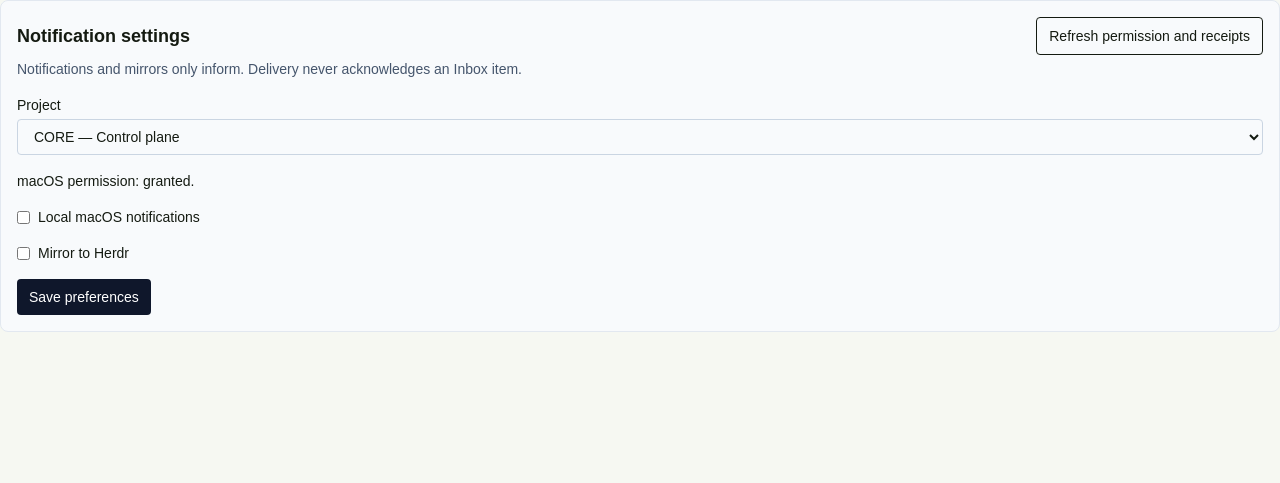
Scenario: notification-settings › saves explicit channel preferences without acknowledging attention
This screenshot has width=1280, height=483.
Click the checkbox with test id "notification-local". click: (24, 217)
box: [17,210,30,224]
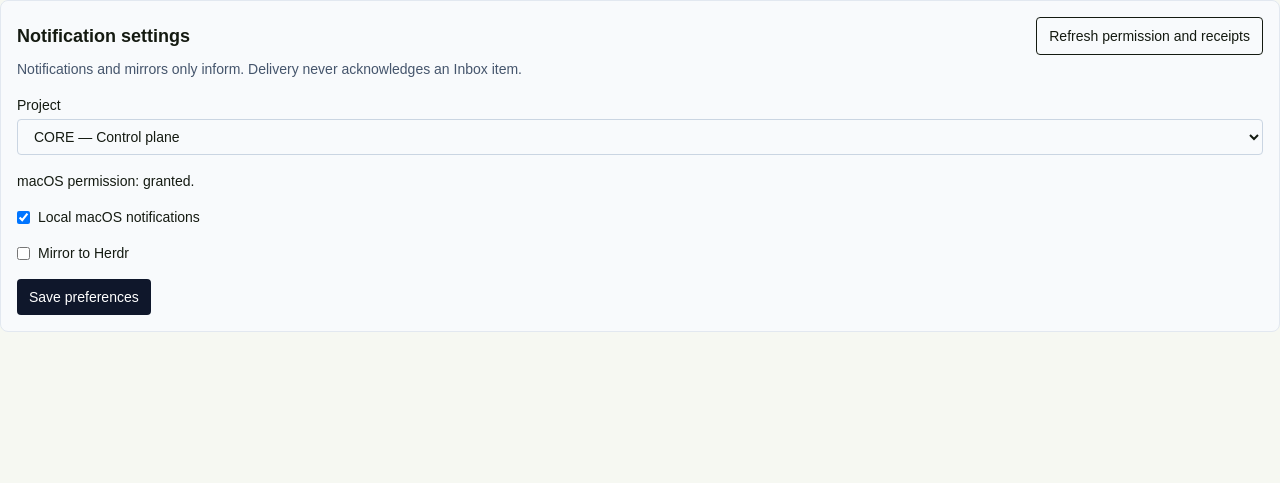
Click the checkbox with test id "notification-mirror". click: (24, 253)
box: [17,246,30,260]
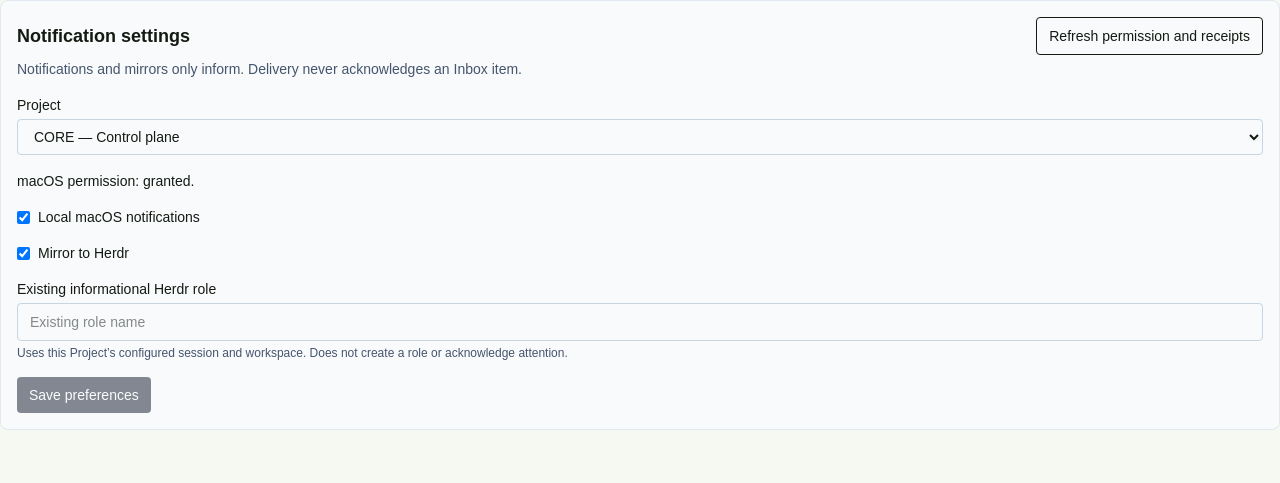
Type "observer" into the field with test id "notification-role". click: (640, 322)
box: [17,303,1263,341]
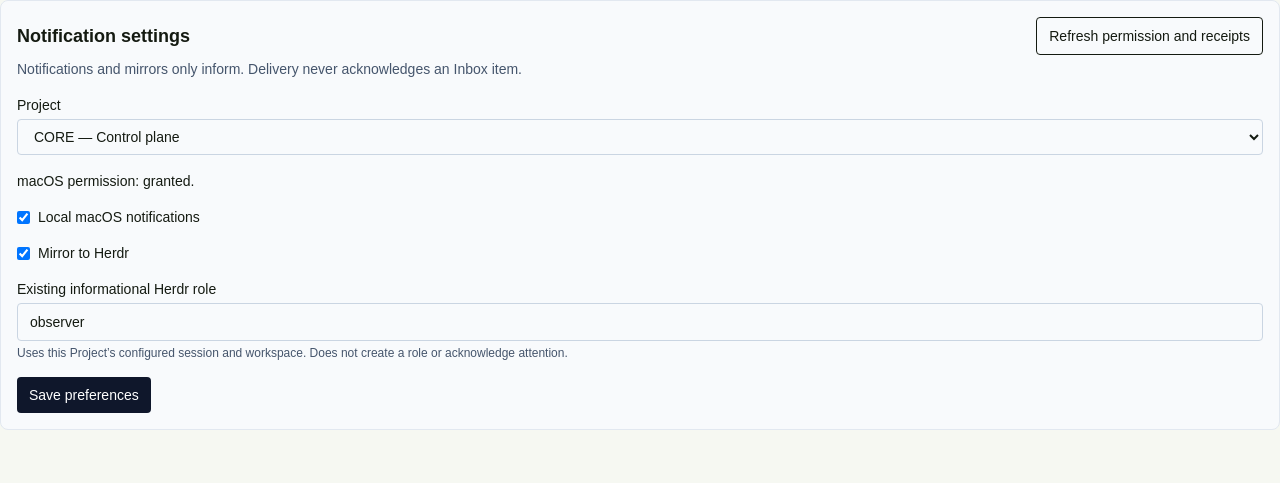
Submit the form with test id "notification-settings-form", box [17,171,1263,413]
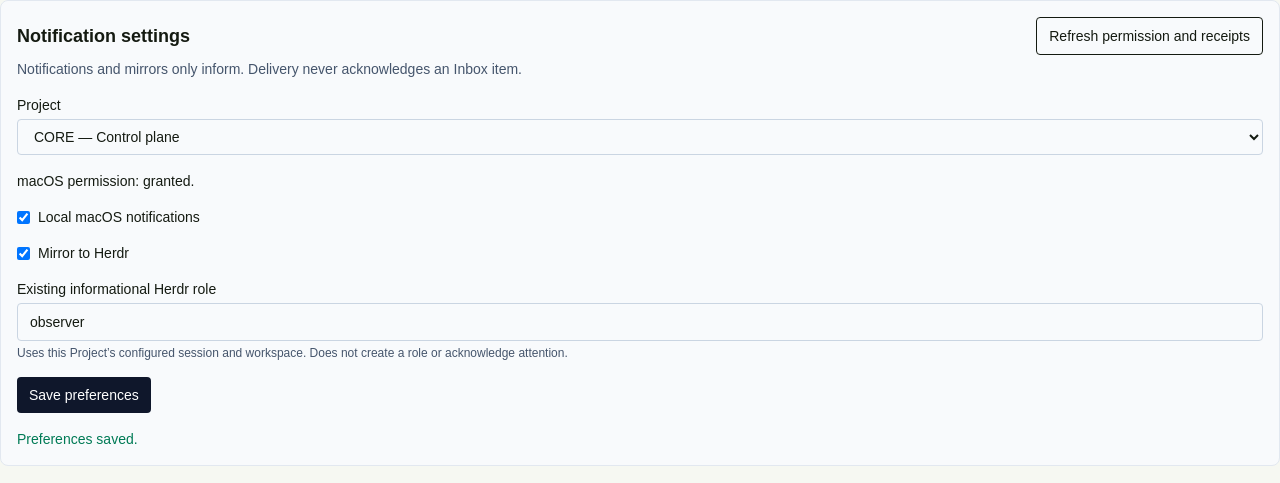
Check: the text "Preferences saved" is shown, box [17,431,138,447]
